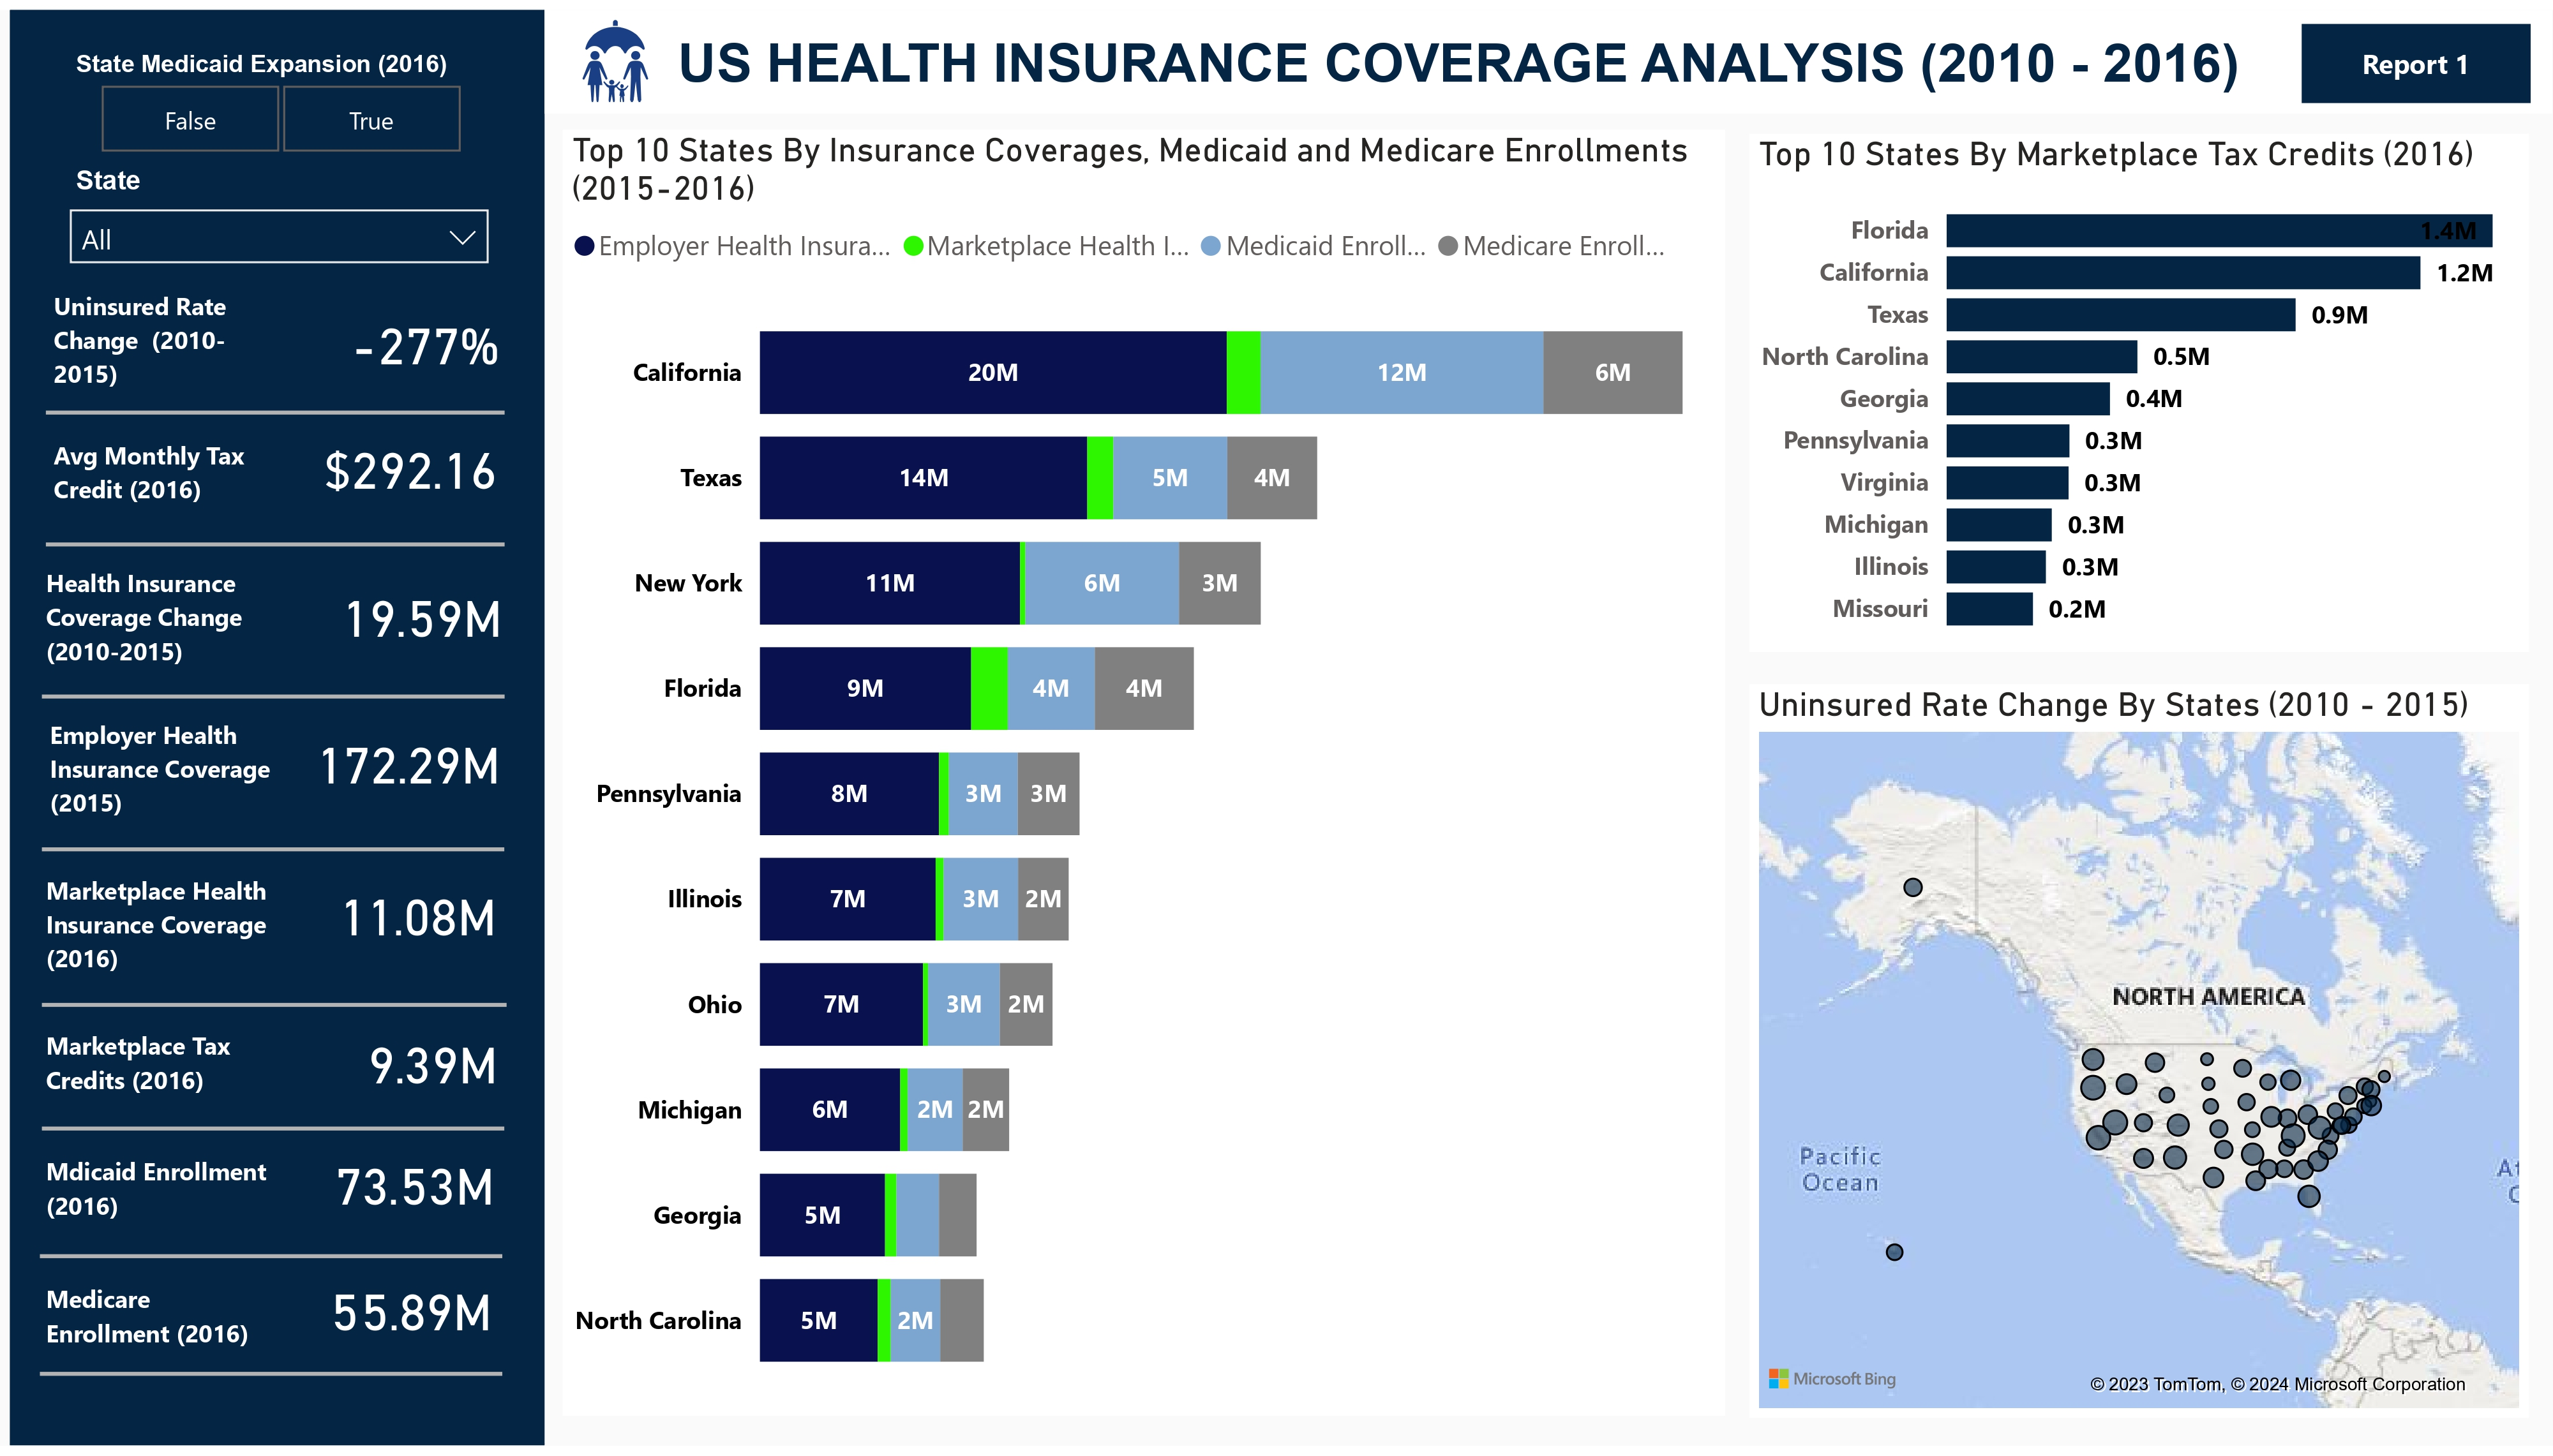

Layout of this report page (visuals, bound fields, positions):
{"tool":"powerbi","page":{"name":"REPORT 1","canvas":[1280,720],"ordinal":0},"visuals":[{"type":"shape","box":[5,0,268.4,719.7],"z":0},{"type":"card","fields":{"Values":["DAX.Avg Average Monthly Tax Credit (2016)"]},"box":[137.5,191.3,137.5,78],"z":1000},{"type":"card","fields":{"Values":["DAX.Formatted Health Insurance Coverage Change (2010-2015)"]},"box":[141.7,263.6,138.9,80.8],"z":2000},{"type":"card","fields":{"Values":["DAX.FORMATTED Employee Health Insurance Coverage (2015)"]},"box":[127.6,338.7,153.1,78],"z":3000},{"type":"card","fields":{"Values":["DAX.Formatted Marketplace Health Insurance Coverage (2016)"]},"box":[140.3,415.3,138.9,78],"z":4000},{"type":"shape","box":[23.3,249.6,230.4,36],"z":5000},{"type":"card","fields":{"Values":["DAX.Formatted Marketplace Tax Credit (2016)"]},"box":[146,487.6,141.7,80.8],"z":6000},{"type":"shape","box":[21.3,323.1,232.4,42.5],"z":7000},{"type":"shape","box":[21.3,399.9,231.8,41.8],"z":8000},{"type":"shape","box":[23.3,181.5,230.4,41.8],"z":9000},{"type":"shape","box":[21.3,477.6,233.3,41.8],"z":10000},{"type":"card","fields":{"Values":["DAX.Formatted Uninsured Rate Change (2010-2016)"]},"box":[144.6,127.6,136.1,79.4],"z":11000},{"type":"card","fields":{"Values":["DAX.Medicaid Enrollment (2016)"]},"box":[137.5,549.9,141.6,78.4],"z":12000},{"type":"textbox","box":[21.8,209.3,109.4,66.2],"z":13000},{"type":"textbox","box":[18.4,273.1,125.3,79.2],"z":14000},{"type":"textbox","box":[19.8,349.5,125.3,79.2],"z":15000},{"type":"textbox","box":[18.4,426.6,124.7,79.4],"z":16000},{"type":"textbox","box":[21.8,134,109.4,63.4],"z":17000},{"type":"textbox","box":[18.4,504.6,124.7,73.7],"z":18000},{"type":"shape","box":[21.3,540.3,231.8,41.8],"z":19000},{"type":"textbox","box":[18.4,568.4,125.3,60.5],"z":20000},{"type":"shape","box":[19.9,604.4,231.8,41.8],"z":21000},{"type":"card","fields":{"Values":["DAX.Medicare Enrollment (2016)"]},"box":[134.7,613.2,141.6,78.4],"z":22000},{"type":"textbox","box":[18.4,632.1,124.7,59.5],"z":23000},{"type":"shape","box":[19.9,663.3,231.8,41.8],"z":24000},{"type":"barChart","title":"Top 10 States With Most Declined Uninsured Rate Change (2010-2016)","fields":{"Category":["states.State"],"Y":["Sum(states.Uninsured Rate Change (2010-2015))"]},"box":[280.5,62.2,307,312],"z":25000},{"type":"donutChart","title":"States Medicaid Expansion (2016) Enrollment Status","fields":{"Series":["states.State Medicaid Expansion (2016)"],"Y":["CountNonNull(states.State Medicaid Expansion (2016))"]},"box":[599.7,62.2,312.4,312],"z":26000},{"type":"barChart","title":"Top 10 States With The Most Significant Medicaid Enrollment Change (2013-2016)","fields":{"Category":["states.State"],"Y":["Sum(states.Medicaid Enrollment Change (2013-2016))"]},"box":[923.9,62.2,344.4,312],"z":27000},{"type":"barChart","title":"Top 10 States By Health Insurance Coverage Change (2010-2015)","fields":{"Category":["states.State"],"Y":["Sum(states.Health Insurance Coverage Change (2010-2015))"]},"box":[280.5,386.4,307.4,322.5],"z":28000},{"type":"slicer","fields":{"Values":["states.State"]},"box":[24.7,72.9,229.6,64.6],"z":29000},{"type":"slicer","fields":{"Values":["states.State Medicaid Expansion (2016)"]},"box":[24.7,15.1,229.6,63.2],"z":30000},{"type":"shape","box":[273.4,0,1006.6,52],"z":31000},{"type":"textbox","box":[334.5,7.3,837.8,50.9],"z":32000},{"type":"image","box":[273.5,0,69.8,50.9],"z":33000},{"type":"barChart","title":"Top 10 States By Avg Monthly Tax Credit (2016)","fields":{"Category":["states.State"],"Y":["Sum(states.Average Monthly Tax Credit (2016))"]},"box":[599.7,389.7,312.4,317.5],"z":34000},{"type":"actionButton","box":[1153.7,7.1,114.8,39.7],"z":35000},{"type":"barChart","title":"Top 10 States By Marketplace Tax Credits (2016)","fields":{"Category":["states.State"],"Y":["Sum(states.Marketplace Tax Credits (2016))"]},"box":[923.9,389.7,344.4,319.2],"z":36000}]}

Visuals, with their boxes in screenshot pixels (x1, y1, x2, y2), scaled from the page's 1280x720 canvas onto the 2553x1456 screenshot:
shape: bbox=[10, 0, 545, 1455]
card - DAX.Avg Average Monthly Tax Credit (2016): bbox=[274, 387, 548, 545]
card - DAX.Formatted Health Insurance Coverage Change (2010-2015): bbox=[283, 533, 560, 697]
card - DAX.FORMATTED Employee Health Insurance Coverage (2015): bbox=[255, 685, 560, 843]
card - DAX.Formatted Marketplace Health Insurance Coverage (2016): bbox=[280, 840, 557, 997]
shape: bbox=[47, 505, 506, 577]
card - DAX.Formatted Marketplace Tax Credit (2016): bbox=[291, 986, 574, 1150]
shape: bbox=[43, 653, 506, 739]
shape: bbox=[43, 808, 505, 893]
shape: bbox=[47, 367, 506, 452]
shape: bbox=[43, 966, 508, 1050]
card - DAX.Formatted Uninsured Rate Change (2010-2016): bbox=[288, 258, 560, 419]
card - DAX.Medicaid Enrollment (2016): bbox=[274, 1112, 557, 1270]
textbox: bbox=[43, 423, 262, 557]
textbox: bbox=[36, 553, 287, 713]
textbox: bbox=[40, 707, 289, 867]
textbox: bbox=[36, 863, 285, 1023]
textbox: bbox=[43, 271, 262, 399]
textbox: bbox=[36, 1020, 285, 1170]
shape: bbox=[43, 1092, 505, 1177]
textbox: bbox=[36, 1150, 287, 1272]
shape: bbox=[40, 1222, 502, 1307]
card - DAX.Medicare Enrollment (2016): bbox=[269, 1240, 551, 1399]
textbox: bbox=[36, 1278, 285, 1399]
shape: bbox=[40, 1341, 502, 1426]
"Top 10 States With Most Declined Uninsured Rate Change (2010-2016)" barChart: bbox=[560, 126, 1172, 757]
"States Medicaid Expansion (2016) Enrollment Status" donutChart: bbox=[1196, 126, 1819, 757]
"Top 10 States With The Most Significant Medicaid Enrollment Change (2013-2016)" barChart: bbox=[1843, 126, 2529, 757]
"Top 10 States By Health Insurance Coverage Change (2010-2015)" barChart: bbox=[560, 782, 1172, 1434]
slicer - states.State: bbox=[49, 147, 507, 278]
slicer - states.State Medicaid Expansion (2016): bbox=[49, 31, 507, 158]
shape: bbox=[545, 0, 2552, 105]
textbox: bbox=[667, 15, 2338, 117]
image: bbox=[546, 0, 685, 103]
"Top 10 States By Avg Monthly Tax Credit (2016)" barChart: bbox=[1196, 788, 1819, 1430]
actionButton: bbox=[2301, 15, 2530, 94]
"Top 10 States By Marketplace Tax Credits (2016)" barChart: bbox=[1843, 788, 2529, 1434]
